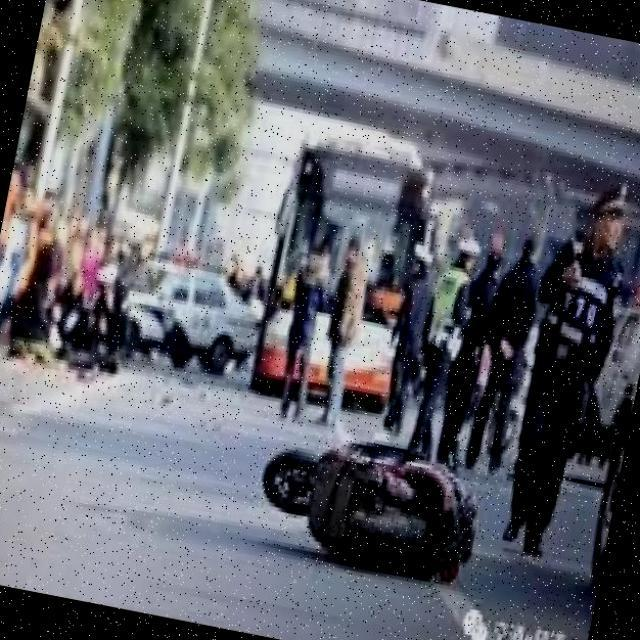accident: (250, 375, 506, 602)
